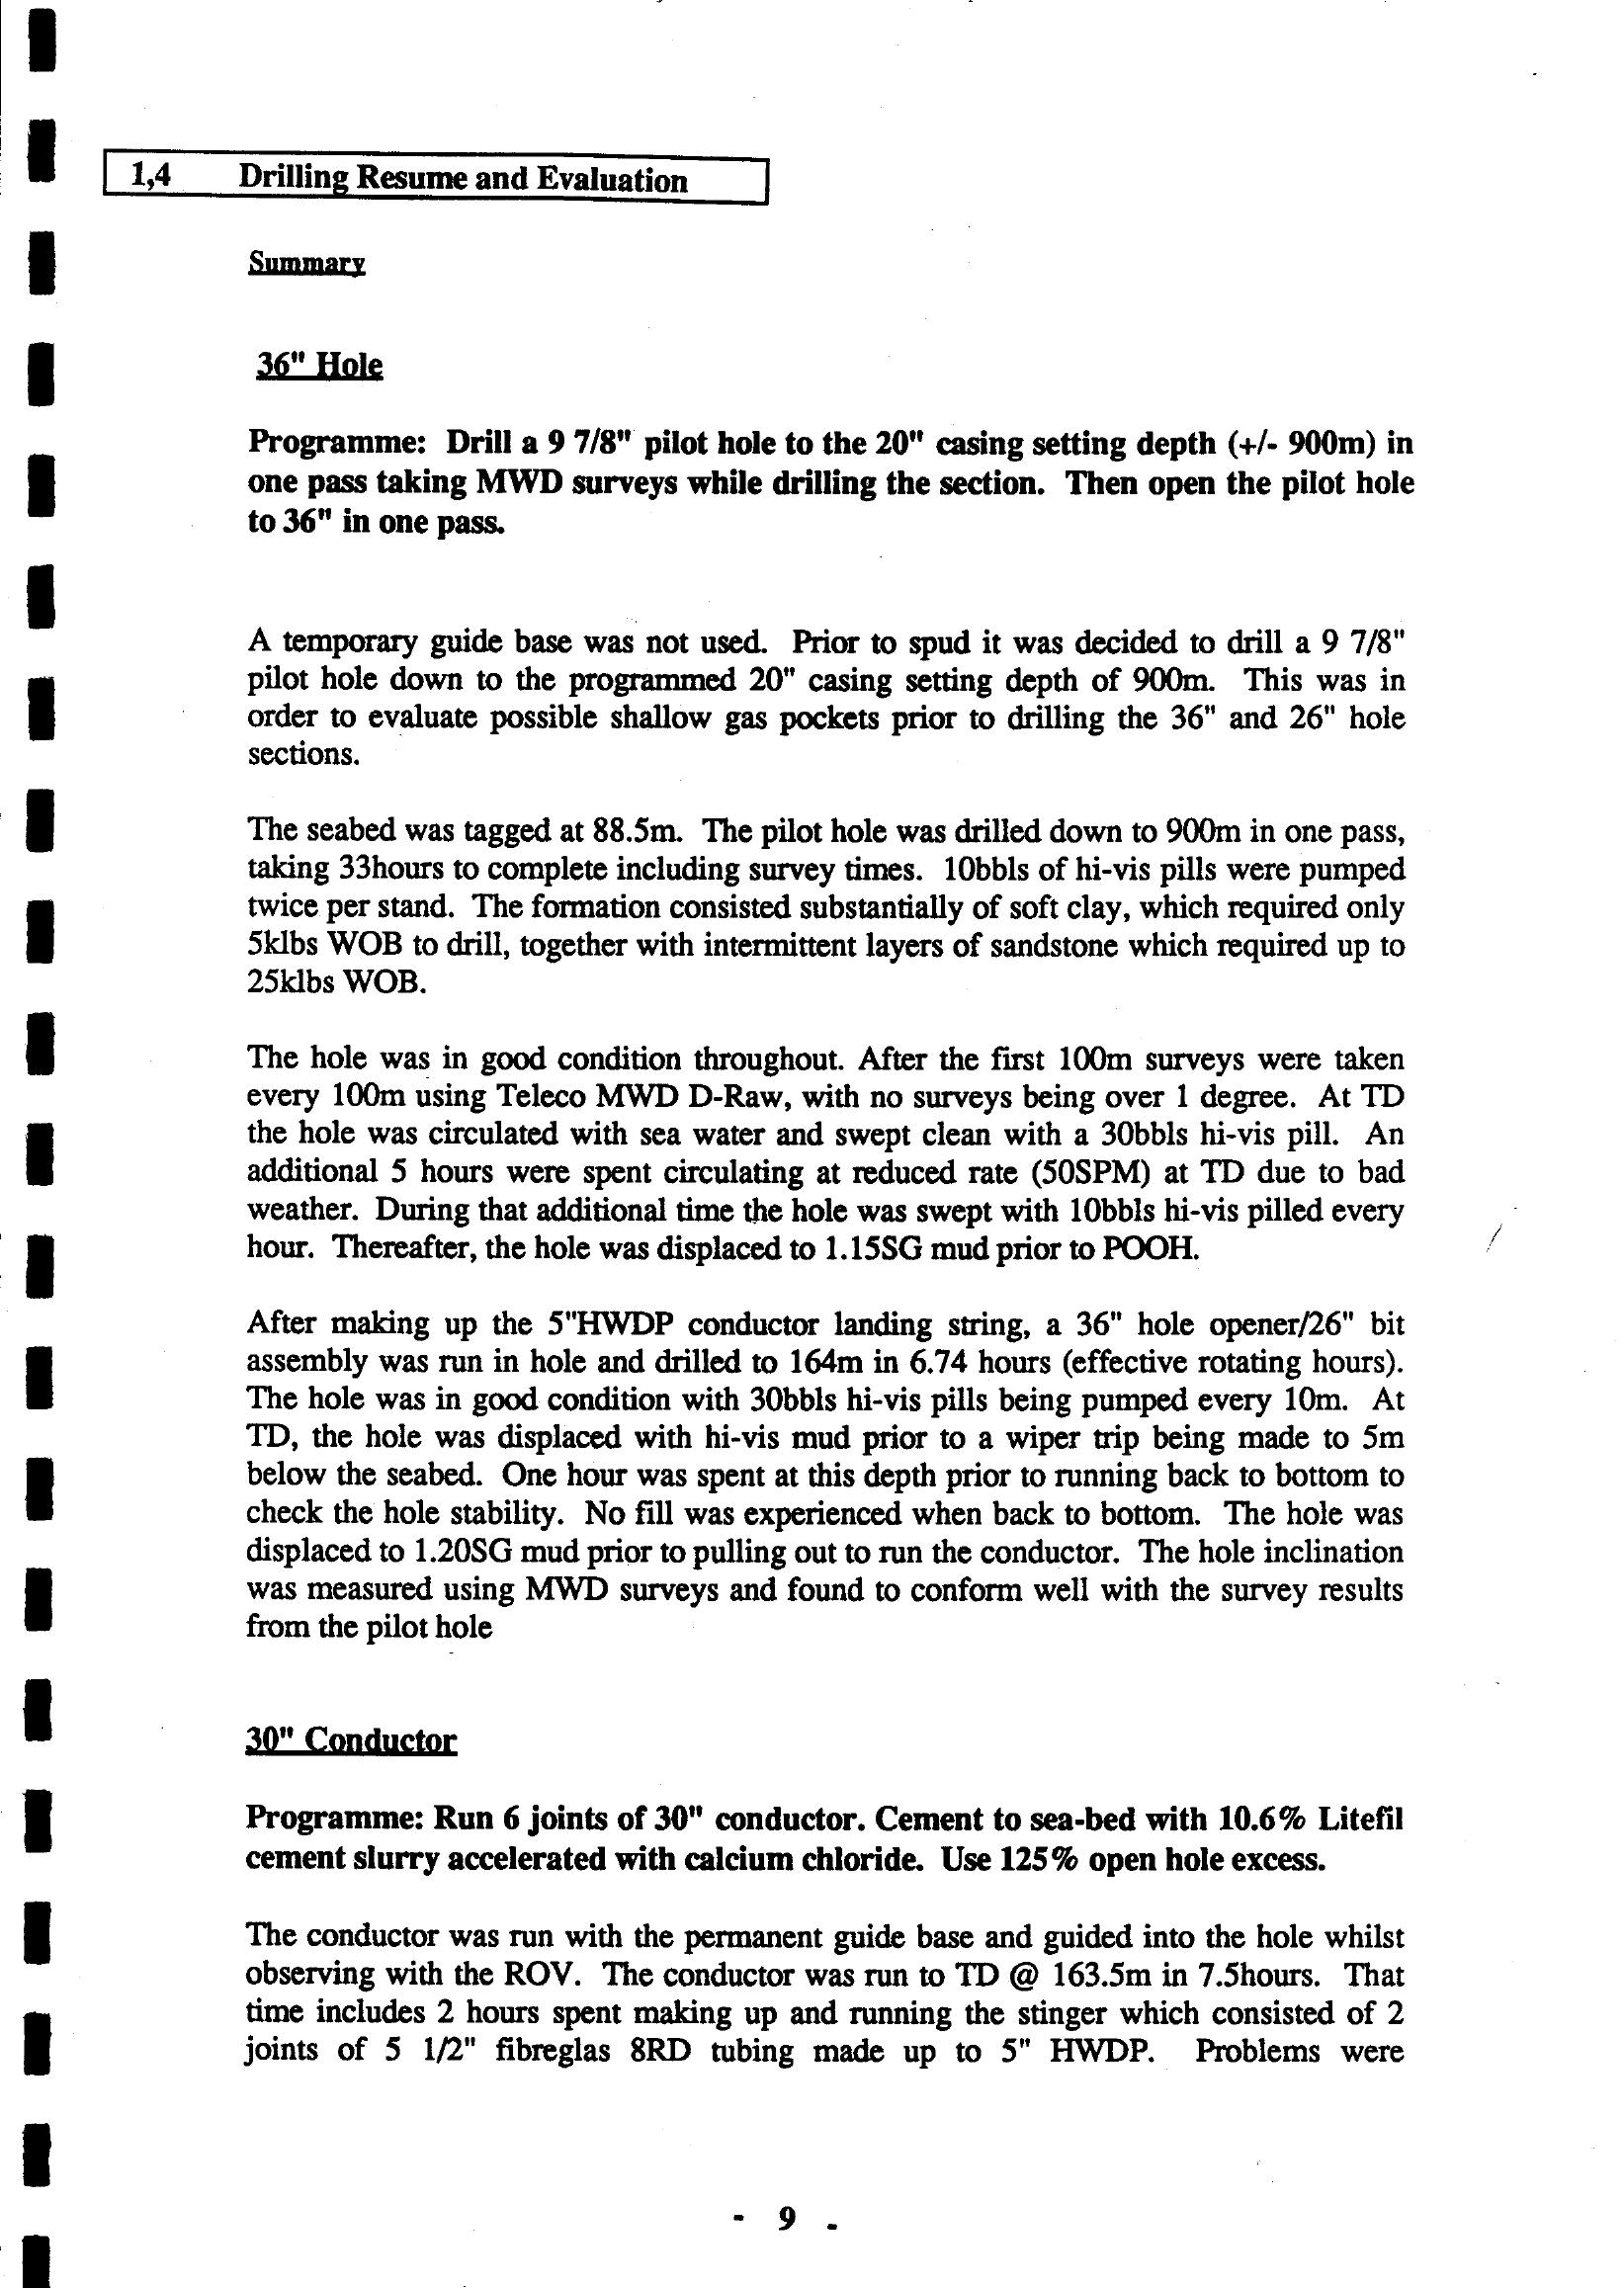text: (90, 118, 1454, 2100)
